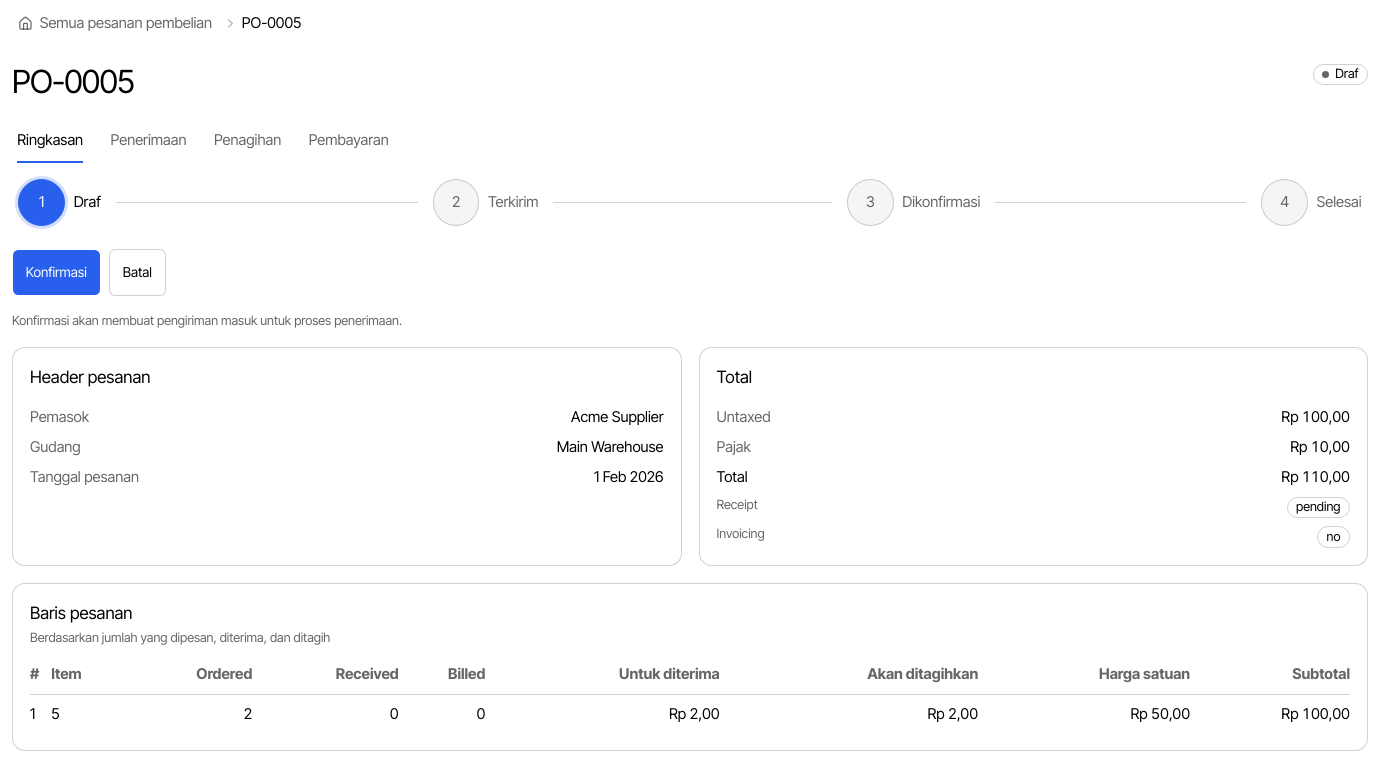
Test case: PurchaseOrderDetail › switches to the receipt tab on selection
Click the tab "Penerimaan".
click(148, 141)  # box [110,117,187,164]
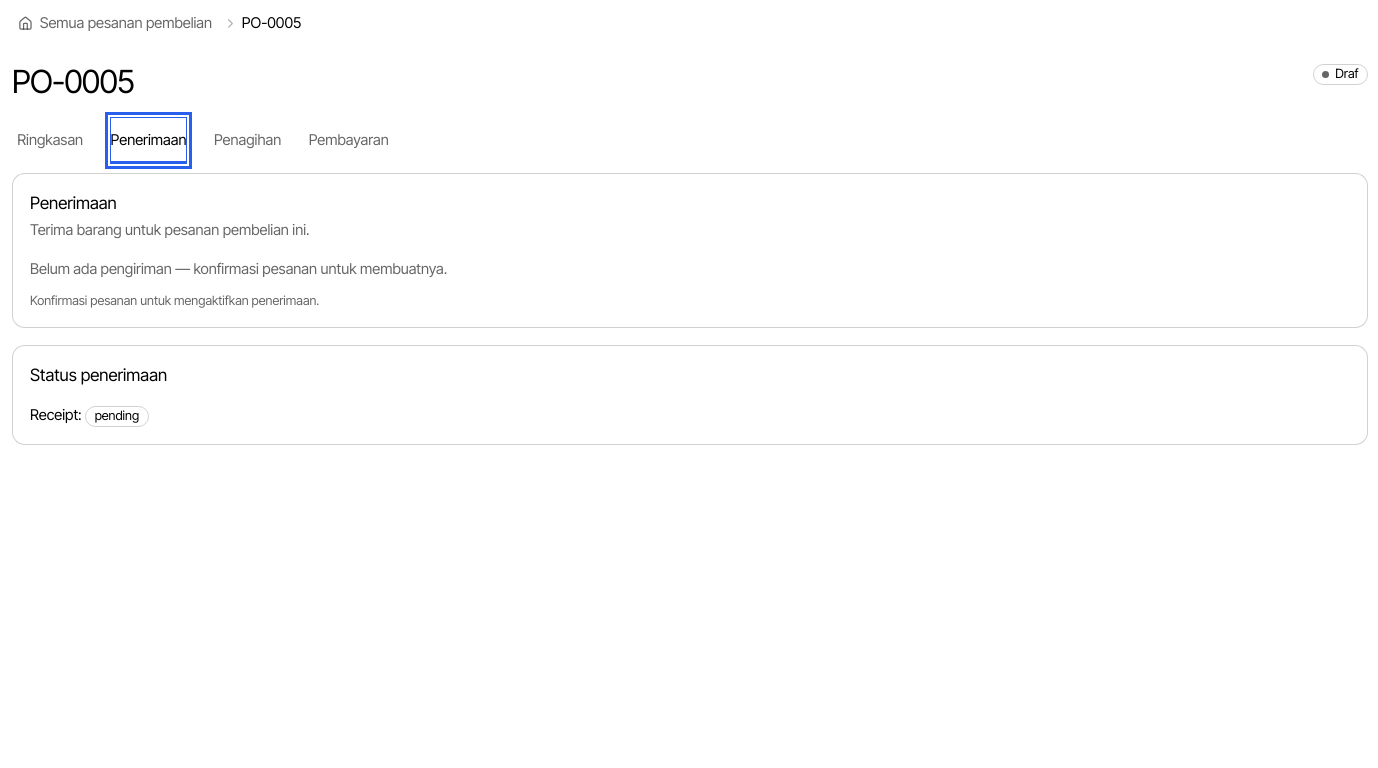
Result: the text "Terima barang untuk pesanan pembelian ini." is shown at [30,221,310,239]
